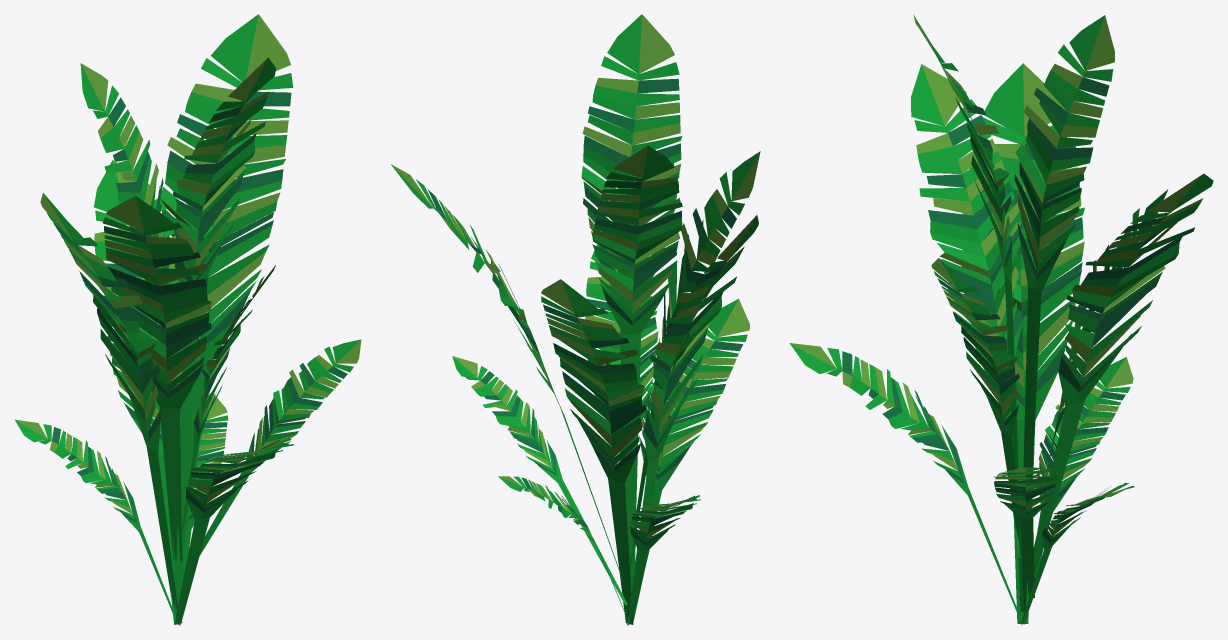
File: brigesbanan_3.fbx
3 views of the same model, side by side, from view 1: azimuth 30°, elevation 25°; view 2: azimuth 150°, elevation 25°; view 3: azimuth 270°, elevation 25° (orthographic). The views are drawn at different scales.
Visible parts, largest first — view 1: banan_3; view 2: banan_3; view 3: banan_3.
Part boxes in pixels (x1,y1,x2,y2): banan_3: (15,14,361,625); banan_3: (391,14,760,625); banan_3: (789,14,1213,624).
Bounding box in the file's own units: 124 × 221 × 135.
